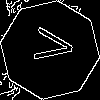V: (25, 25, 75, 65)
